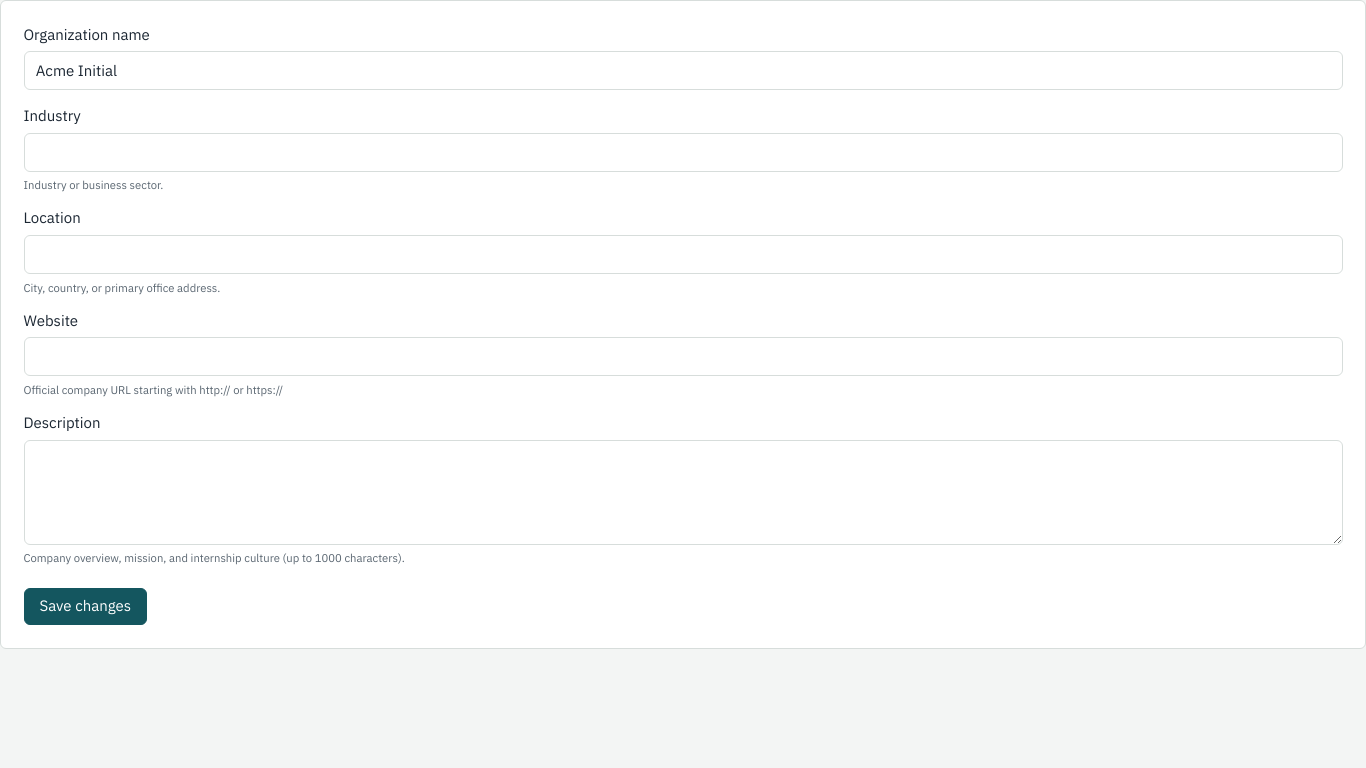
Test case: OrganizationProfileForm Component › saves organization profile successfully and shows success notice
This screenshot has width=1366, height=768.
Replace the text in the field labelled "Organization name" with "Acme Global" at x=683, y=71, box [24,51,1342,90]
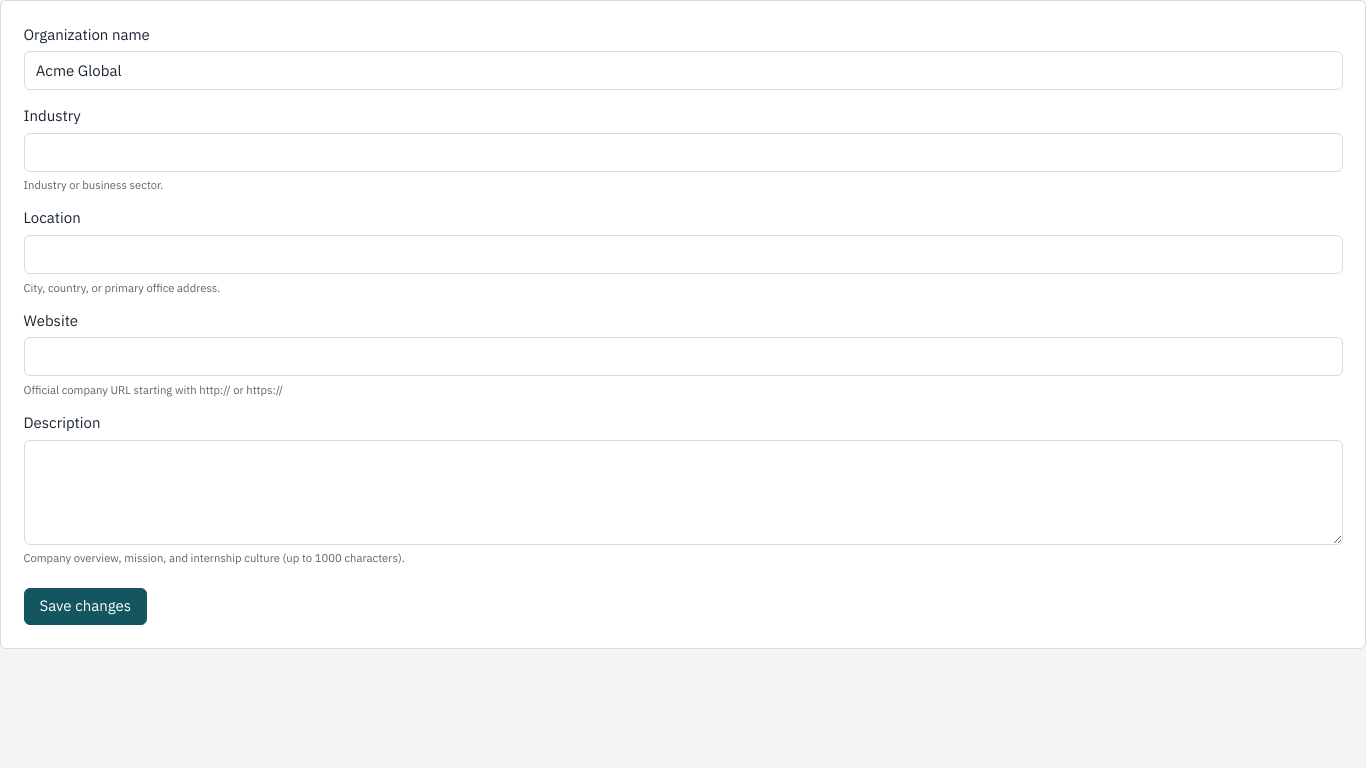
Type "Logistics" into the field labelled "Industry" at x=683, y=152, box [24,133,1342,172]
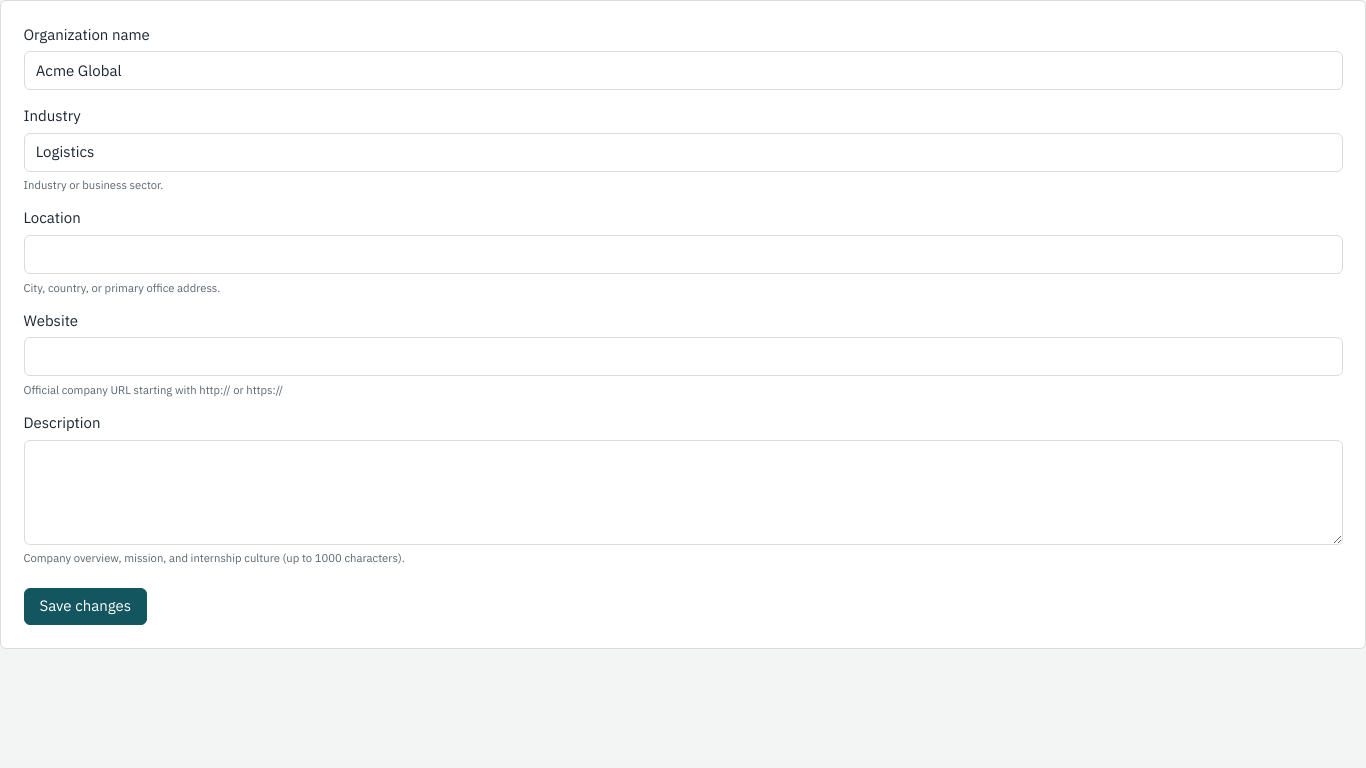
Type "Nairobi" into the field labelled "Location" at x=683, y=254, box [24,235,1342,274]
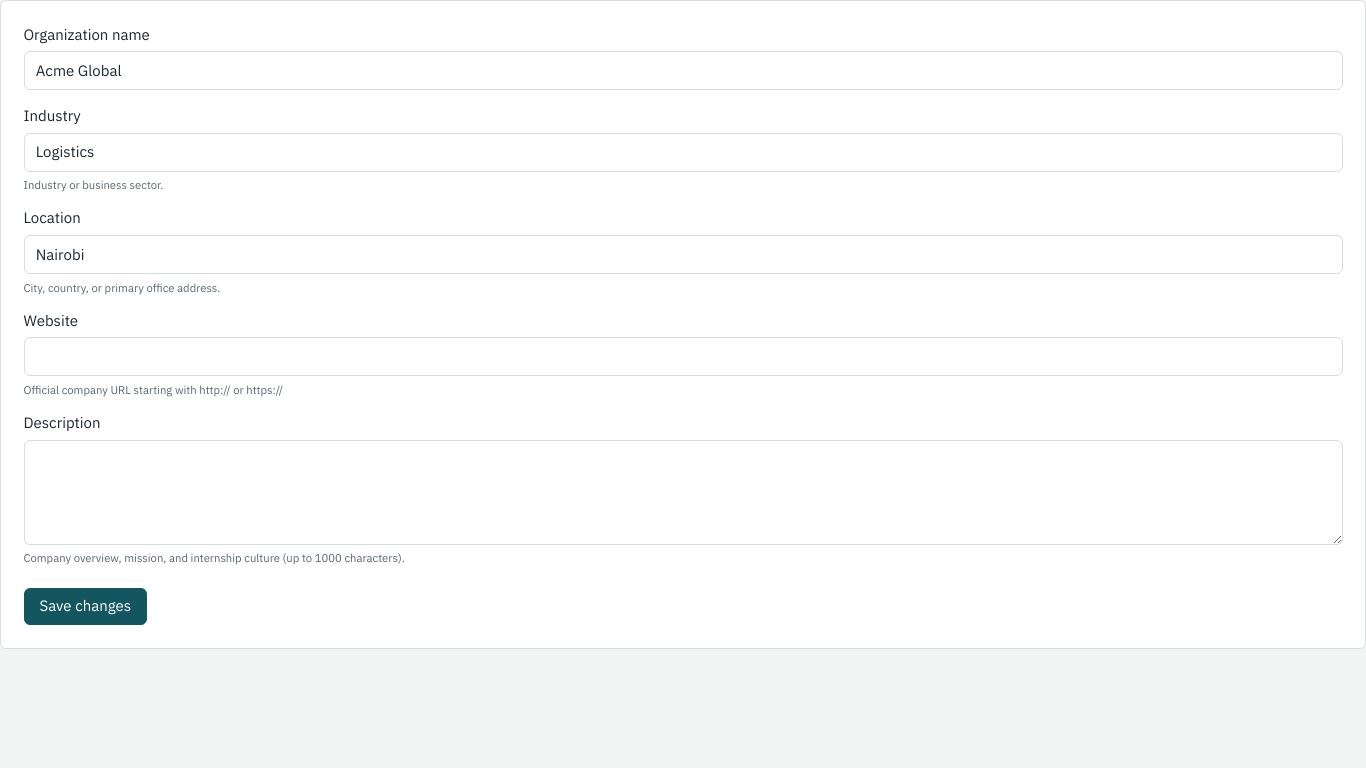
Type "https://acme.global" into the field labelled "Website" at x=683, y=357, box [24,337,1342,376]
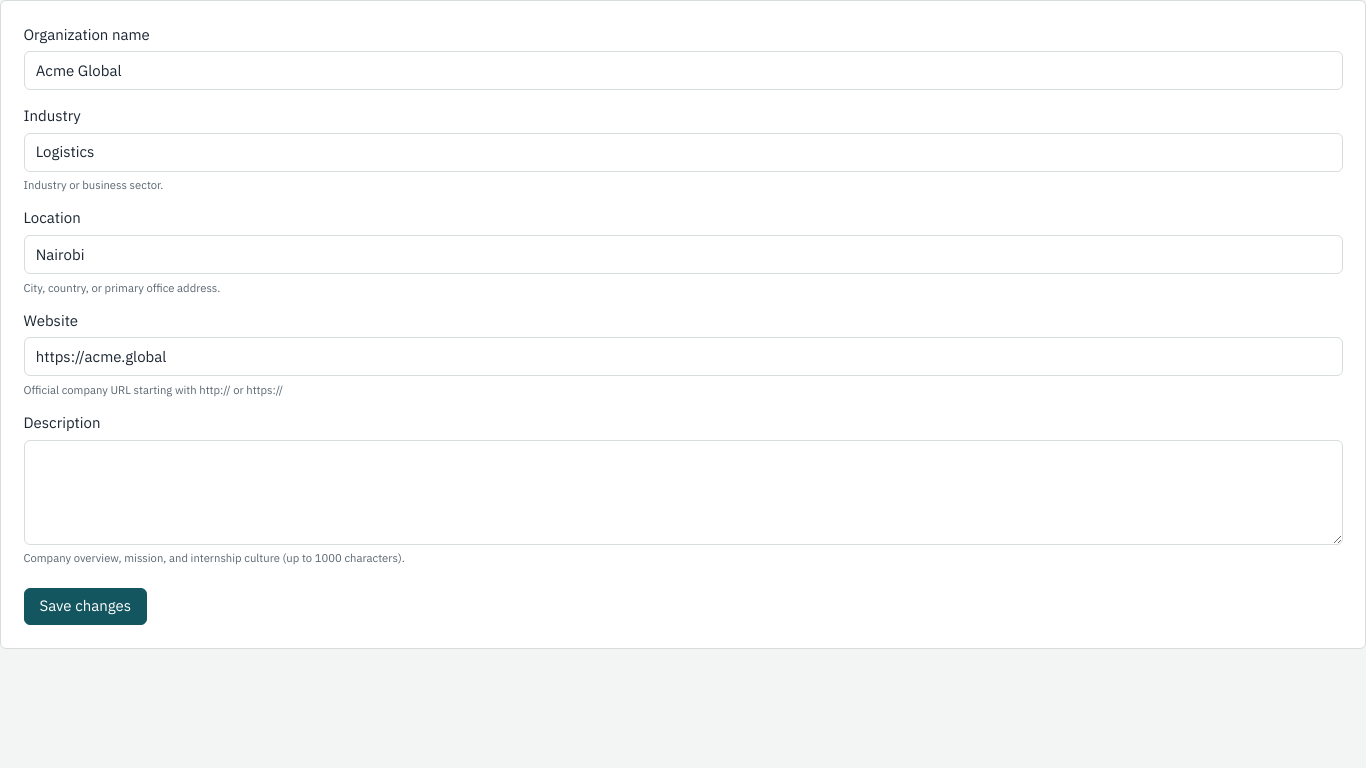
Type "Global reach" into the text box labelled "Description" at x=683, y=492, box [24,440,1342,544]
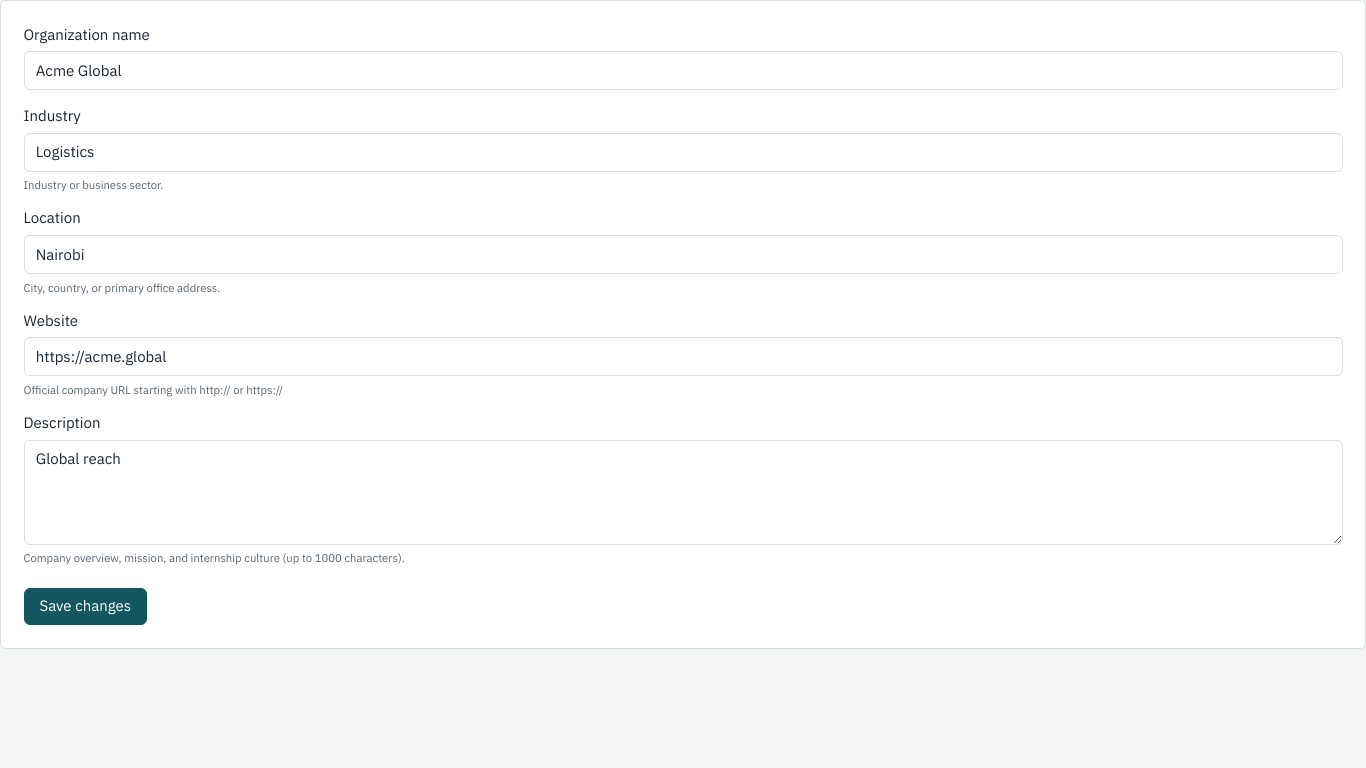
Click the button "Save changes" at x=85, y=606, box [24,588,147,625]
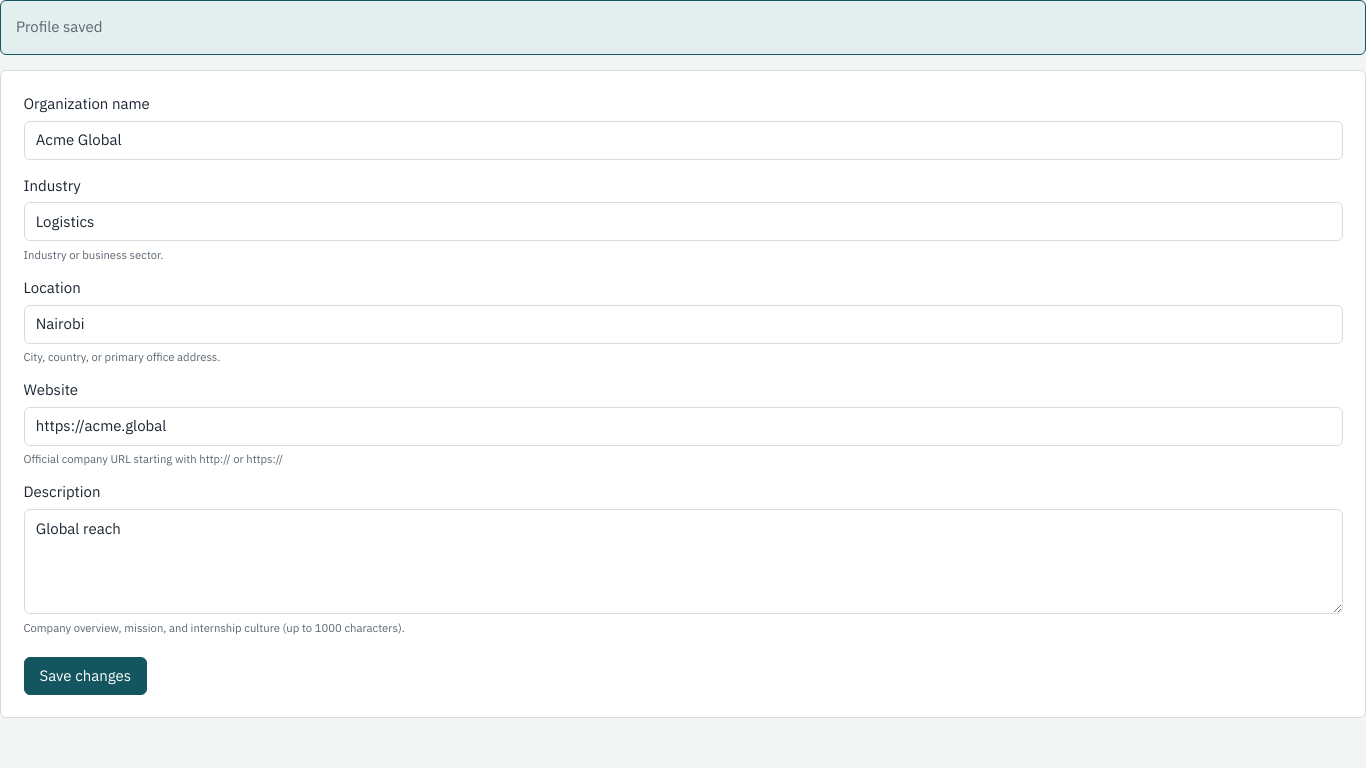
Check: the element with test id "profile-success-notice" reads "Profile saved", box [16,17,102,36]
